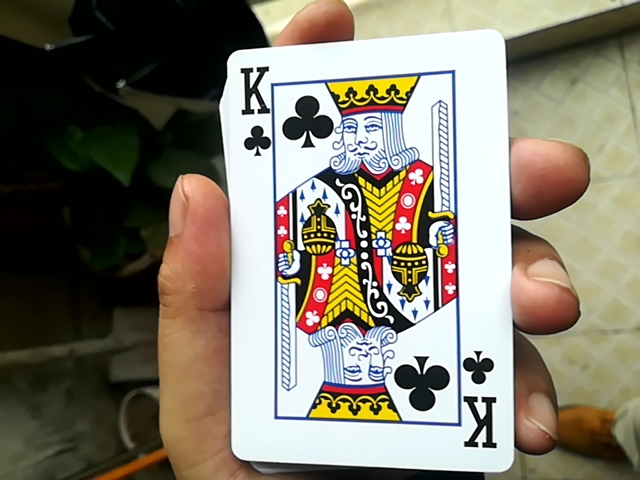mh k: (210, 44, 517, 474)
